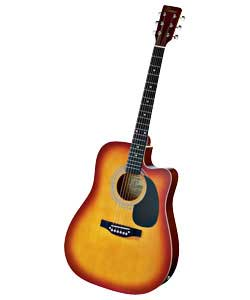guitar: (63, 3, 186, 296)
